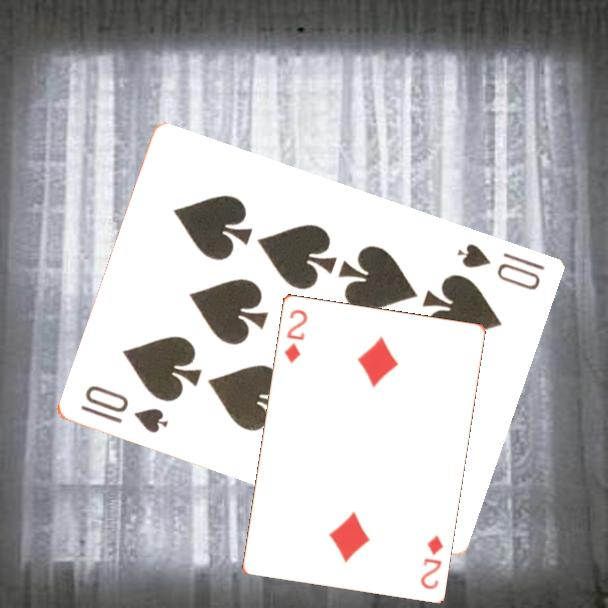d02: (280, 305, 310, 366), (417, 531, 446, 592)
s10: (76, 382, 171, 437), (453, 240, 548, 294)
